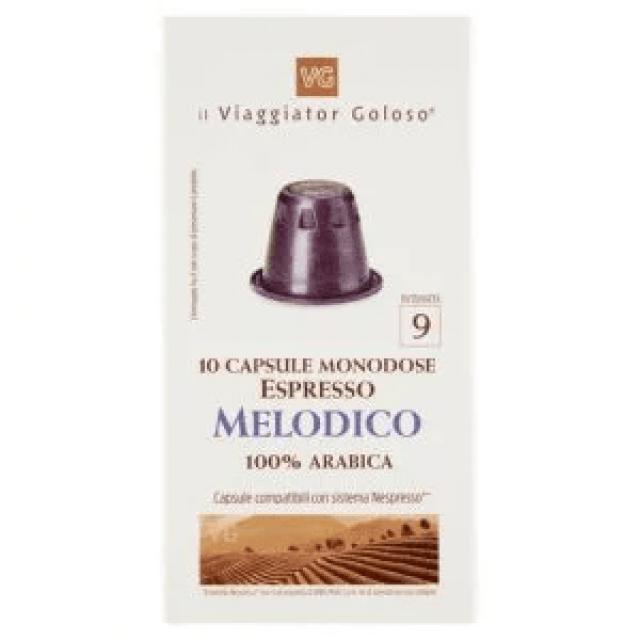Coffee: (161, 13, 478, 628)
